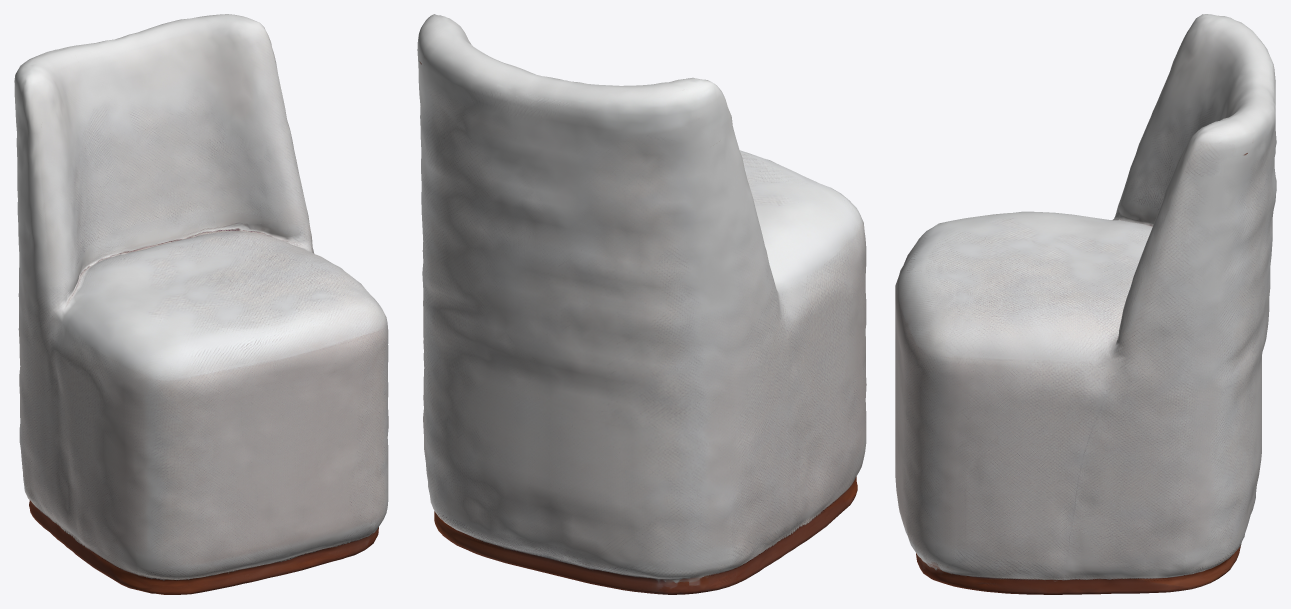
The model's file is Monaco_Dining_Chair_0404021600_texture.glb.
3 views of the same model, side by side, from view 1: azimuth 30°, elevation 25°; view 2: azimuth 150°, elevation 25°; view 3: azimuth 270°, elevation 25° (orthographic). The views are drawn at different scales.
Parts seen in each view (by area): view 1: Mesh_0.001; view 2: Mesh_0.001; view 3: Mesh_0.001.
Boxes of the visible parts, <box> form: Mesh_0.001: <box>14,14,388,594</box>; Mesh_0.001: <box>417,14,866,594</box>; Mesh_0.001: <box>895,14,1276,594</box>.
Size of the model in its own units: 0.5746 by 0.8636 by 0.6526.
1 material, 1 textured.
